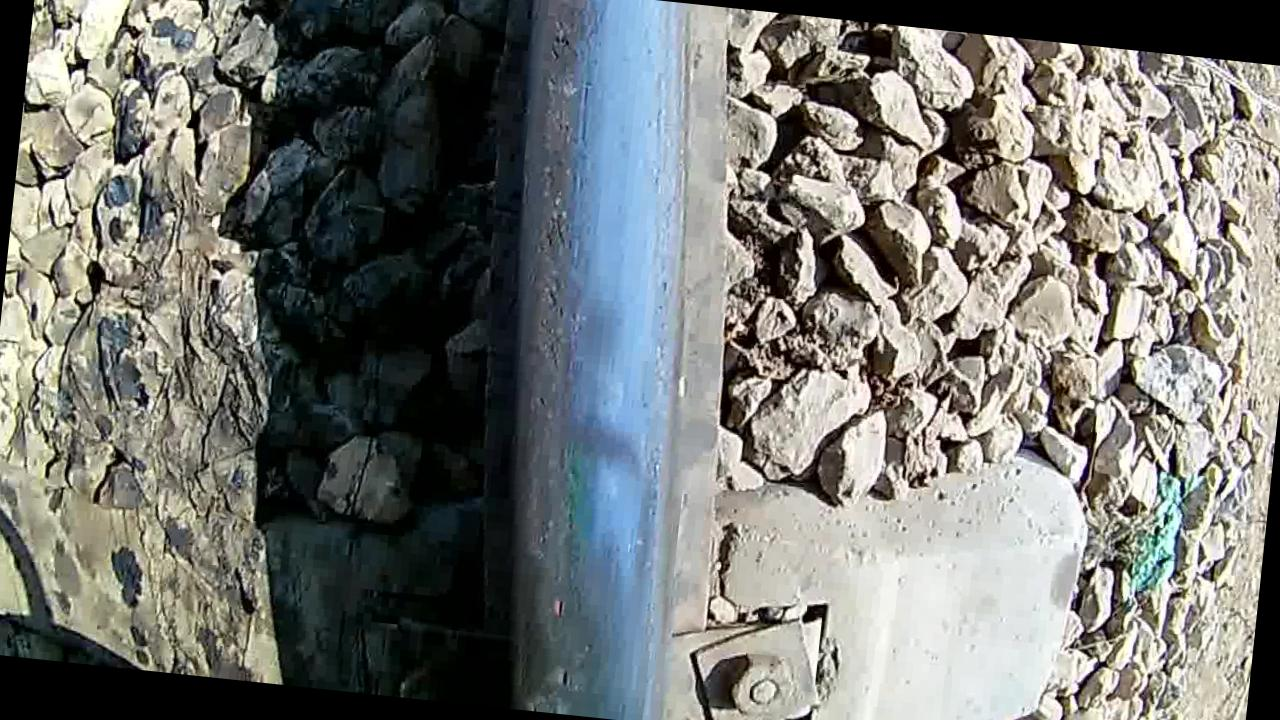crack: (453, 0, 686, 719)
